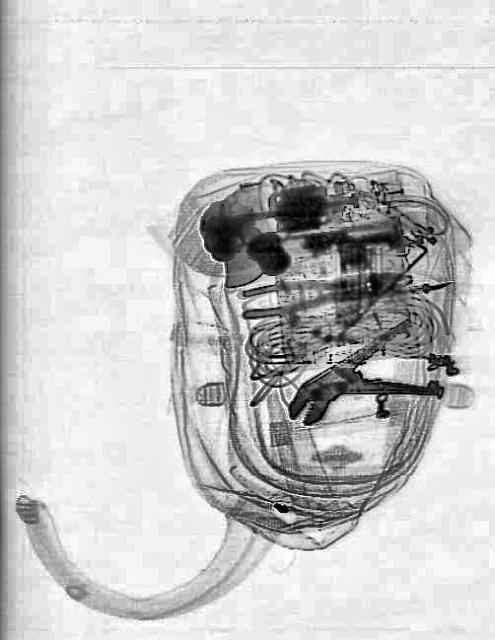Pliers: (275, 310, 443, 450), (239, 262, 413, 320)
